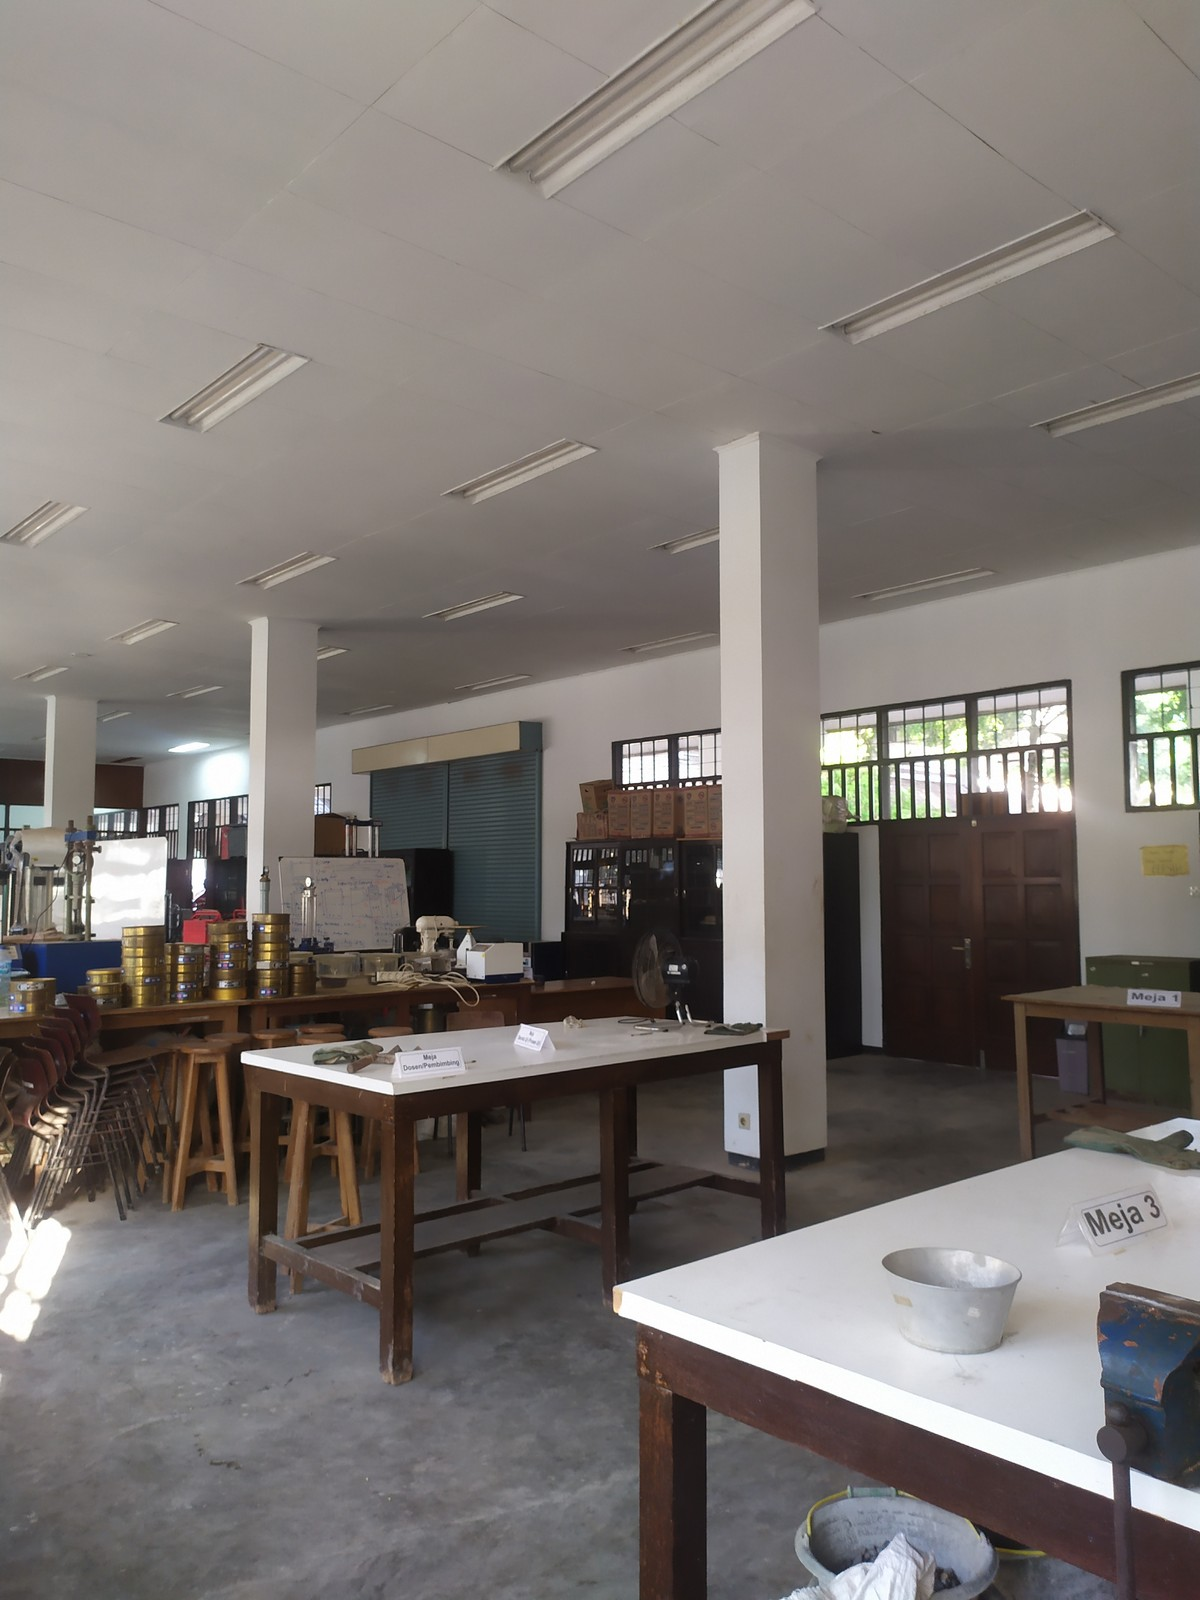concrete column: (708, 425, 841, 1177), (241, 605, 323, 946), (37, 687, 105, 843)
